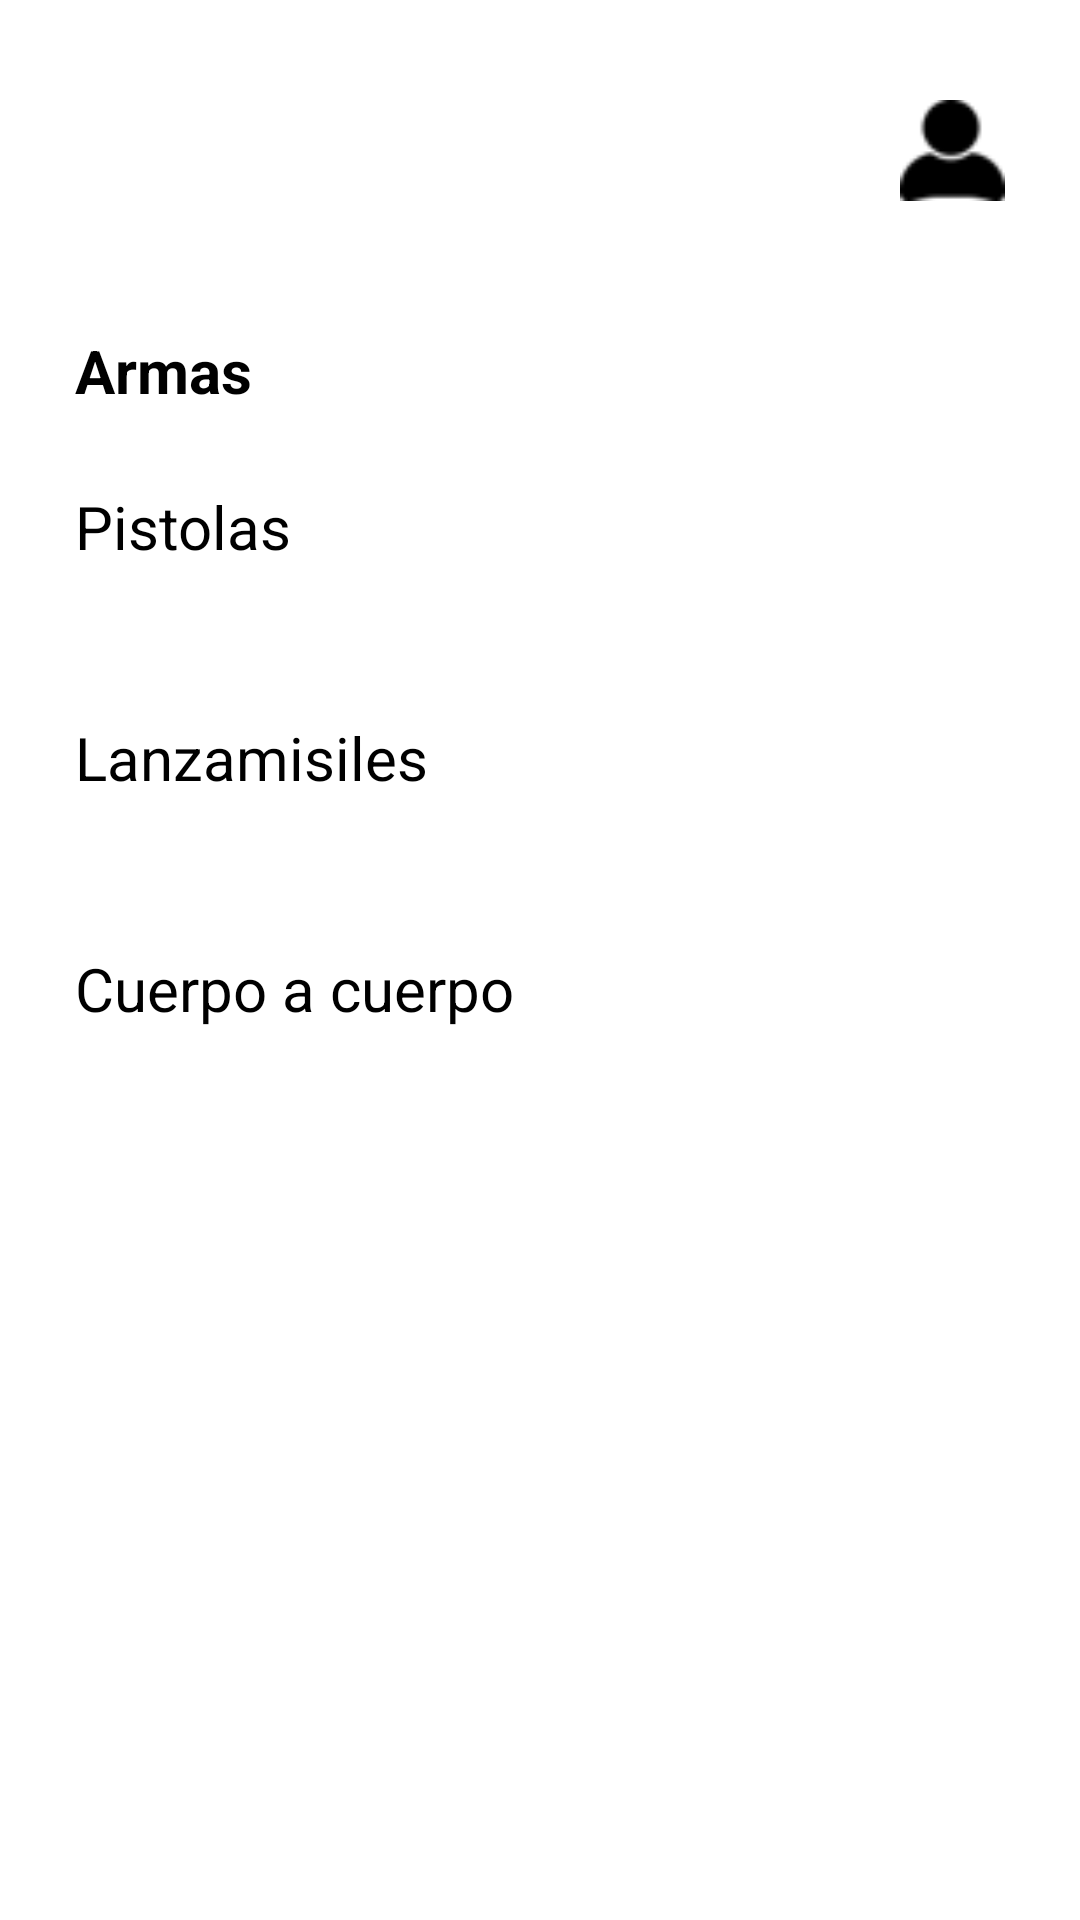

Screen size 1080x1920. Icon name, then its box in pixels as bbox=[x1, y1, x2, y2]:
usuario: bbox=[900, 100, 1005, 201]
